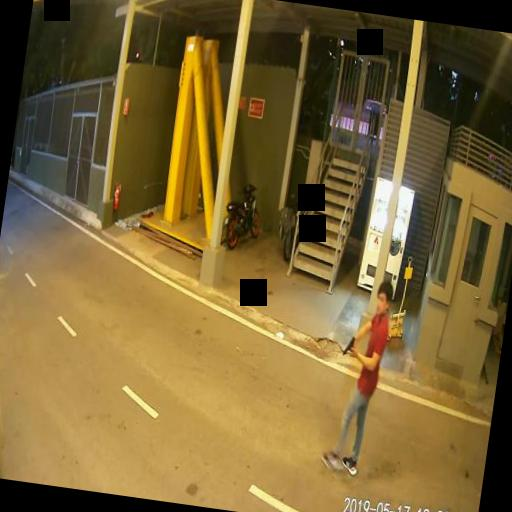Handgun: (341, 332, 355, 355)
